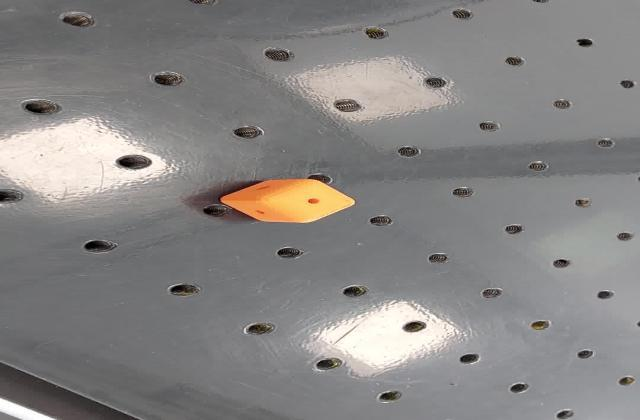cube: (216, 177, 362, 227)
